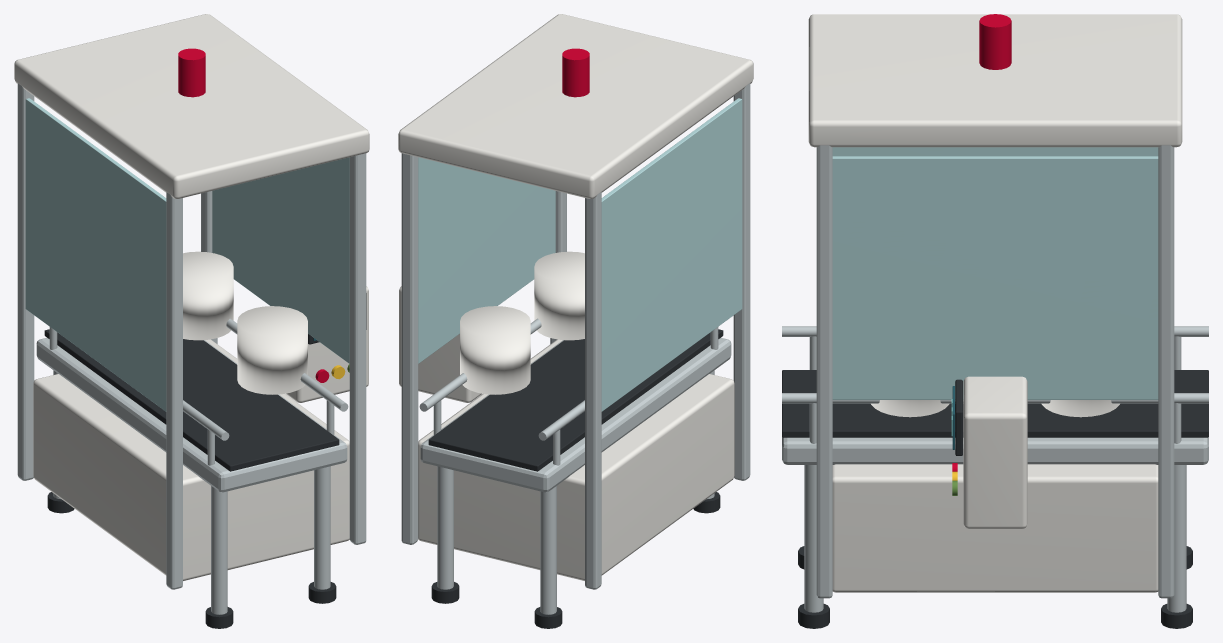
File: Labeling_Machine.fbx
The picture shows the model from 3 angles, left to right: view 1: azimuth 30°, elevation 25°; view 2: azimuth 150°, elevation 25°; view 3: azimuth 270°, elevation 25°; orthographic projection. The views are drawn at different scales.
Visible parts, largest first — view 1: Labeling_Machine_White, Labeling_Machine_Glass, Labeling_Machine_Steel, Labeling_Machine_Rubber, Labeling_Machine_Red; view 2: Labeling_Machine_White, Labeling_Machine_Glass, Labeling_Machine_Steel, Labeling_Machine_Rubber, Labeling_Machine_Red; view 3: Labeling_Machine_White, Labeling_Machine_Glass, Labeling_Machine_Steel, Labeling_Machine_Rubber, Labeling_Machine_Red.
Part boxes in pixels (x1,y1,x2,y2): Labeling_Machine_White: [14, 14, 369, 580]; Labeling_Machine_Glass: [25, 98, 349, 411]; Labeling_Machine_Steel: [17, 83, 366, 614]; Labeling_Machine_Rubber: [44, 293, 366, 628]; Labeling_Machine_Red: [178, 48, 329, 382]; Labeling_Machine_White: [398, 14, 753, 580]; Labeling_Machine_Glass: [418, 98, 742, 411]; Labeling_Machine_Steel: [401, 83, 750, 614]; Labeling_Machine_Rubber: [428, 329, 723, 628]; Labeling_Machine_Red: [562, 48, 589, 97]; Labeling_Machine_White: [808, 14, 1182, 592]; Labeling_Machine_Glass: [832, 147, 1158, 399]; Labeling_Machine_Steel: [782, 145, 1208, 612]; Labeling_Machine_Rubber: [782, 370, 1208, 628]; Labeling_Machine_Red: [952, 14, 1011, 471].
Bounding box in the file's own units: 163 × 296 × 200.
